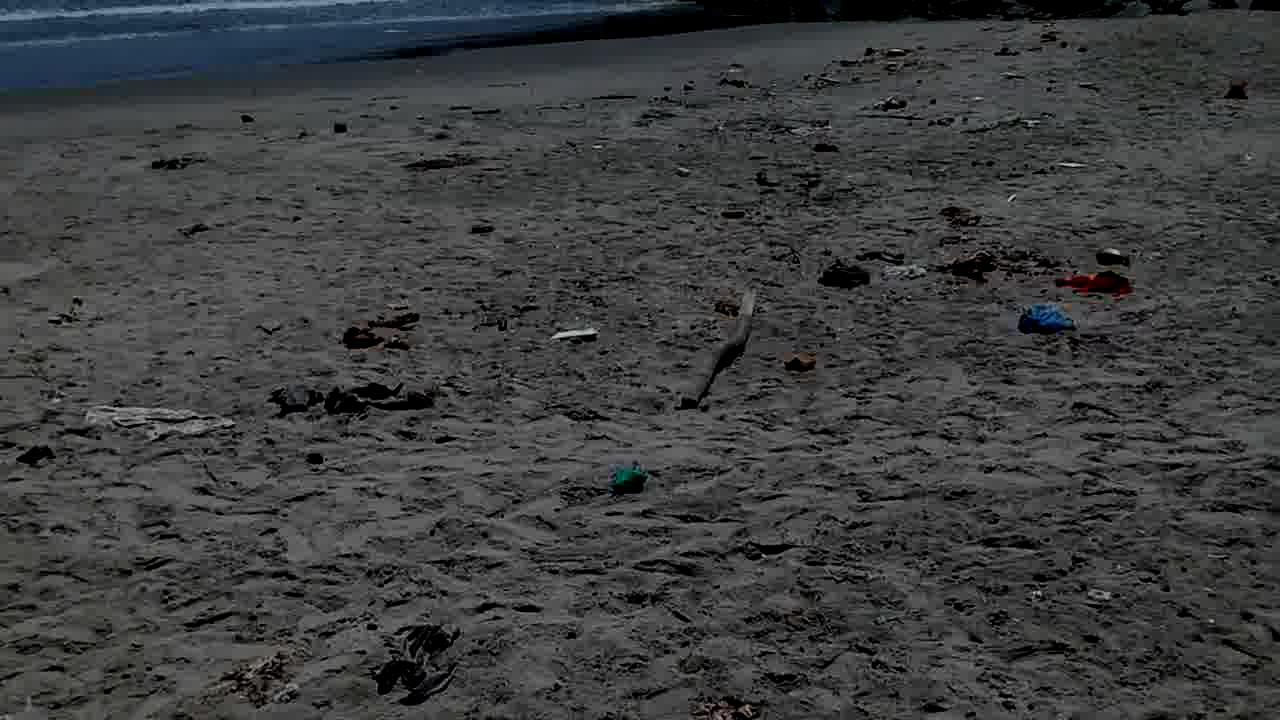obj: (264, 378, 440, 436), (678, 286, 757, 410), (375, 616, 462, 706), (82, 404, 236, 442), (341, 306, 425, 360), (601, 458, 657, 500), (944, 246, 1000, 280), (818, 257, 872, 290), (8, 439, 59, 467), (707, 64, 755, 92), (550, 324, 602, 348), (931, 204, 982, 228), (889, 264, 936, 285), (782, 348, 817, 372), (868, 45, 918, 60), (1000, 115, 1044, 132), (870, 95, 910, 113), (751, 172, 782, 194), (1224, 76, 1250, 100), (719, 205, 750, 222), (1051, 158, 1089, 168), (810, 143, 841, 155), (330, 120, 350, 137), (1004, 190, 1018, 208), (234, 113, 258, 123)
sand/background: (0, 2, 1279, 103)
